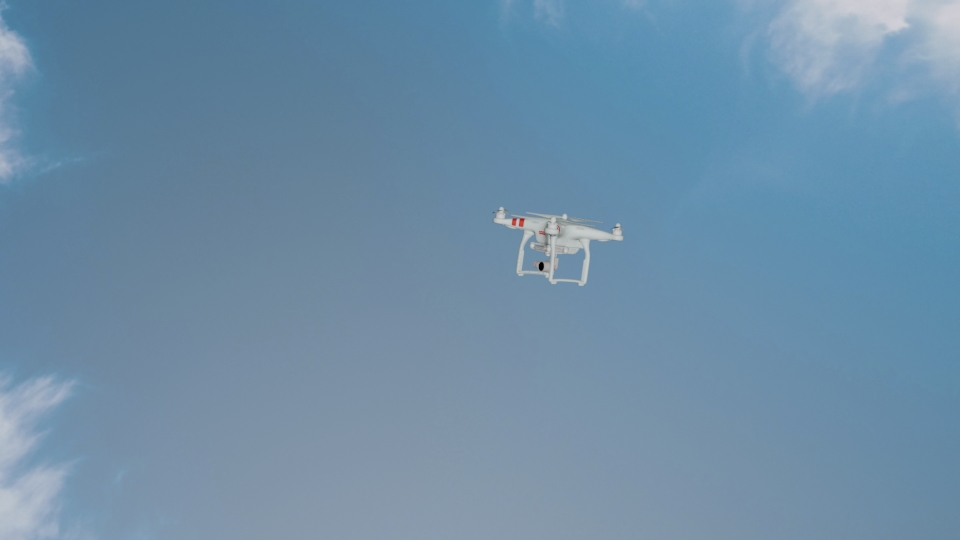drone: (488, 202, 624, 289)
